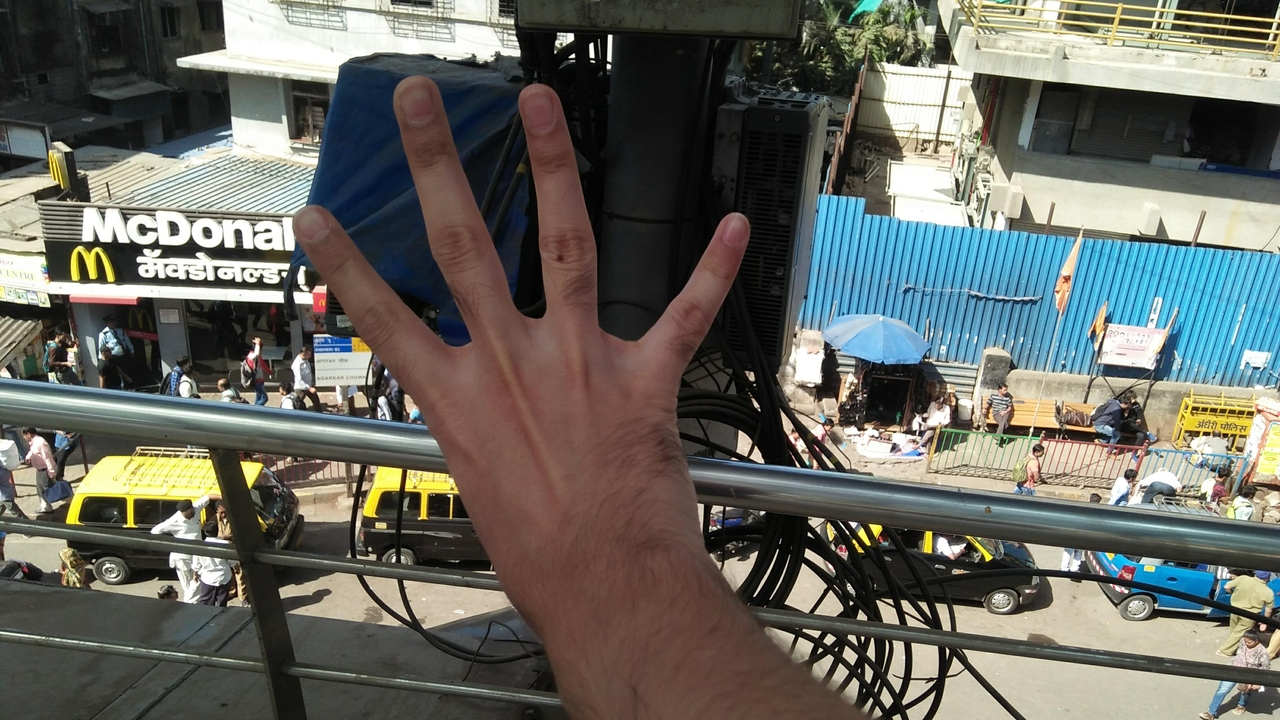fingertip: (382, 70, 448, 126), (506, 76, 566, 132), (280, 194, 340, 250), (708, 206, 754, 256)
